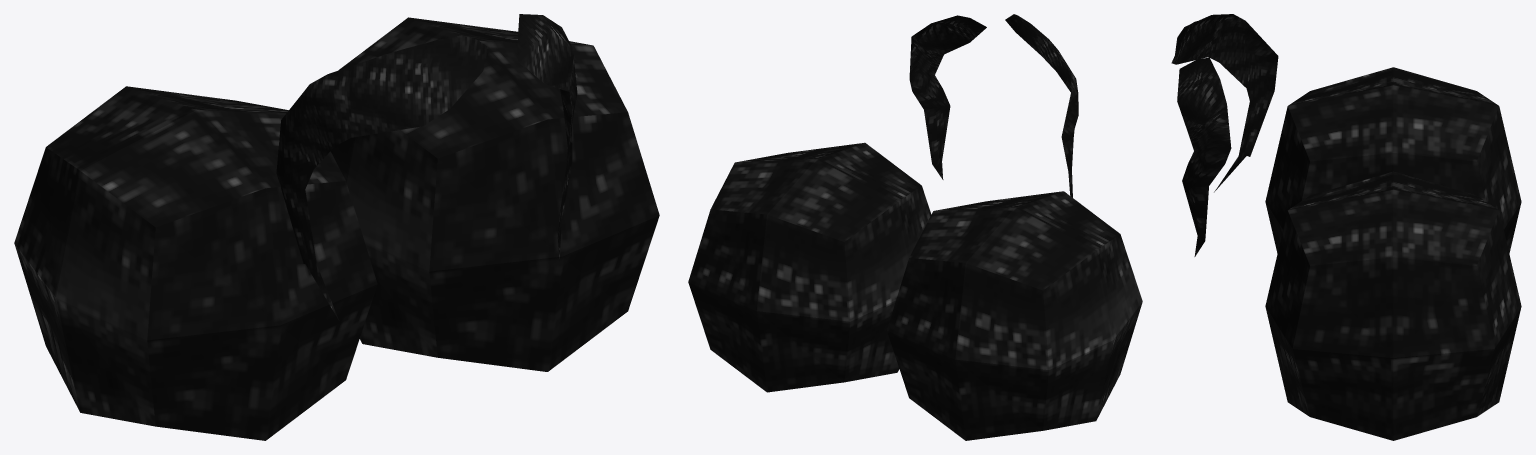
File: hair_aksum_female_03.dae
3 renders of one model, left to right at view 1: azimuth 30°, elevation 25°; view 2: azimuth 150°, elevation 25°; view 3: azimuth 270°, elevation 25°, orthographic. The views are drawn at different scales.
Parts seen in each view (by area): view 1: a_hair_aksum_female_03; view 2: a_hair_aksum_female_03; view 3: a_hair_aksum_female_03.
Boxes of the visible parts, x1=… form: a_hair_aksum_female_03: x1=14, y1=14, x2=659, y2=440; a_hair_aksum_female_03: x1=688, y1=14, x2=1142, y2=440; a_hair_aksum_female_03: x1=1171, y1=14, x2=1521, y2=440.
Size of the model in its own units: 0.7891 by 0.5609 by 0.6025.
